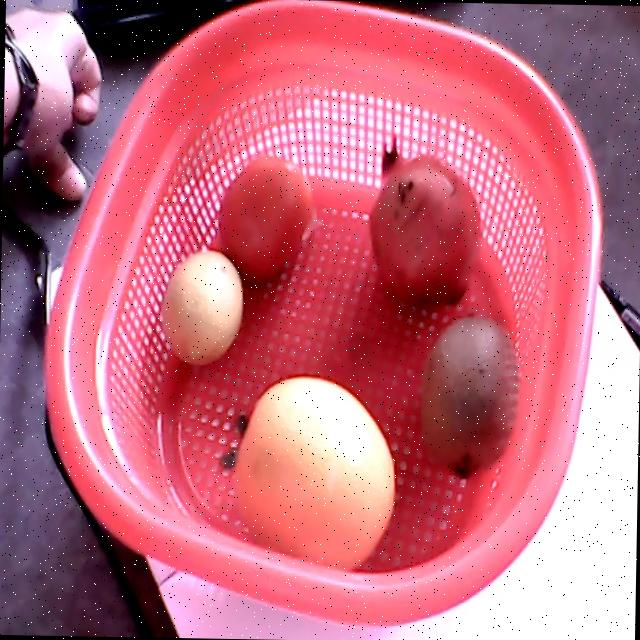kiwi: (419, 315, 519, 480)
lemon: (162, 249, 243, 366)
orange: (221, 376, 394, 570)
pomegranate: (367, 137, 481, 307)
tomato: (218, 156, 318, 281)
